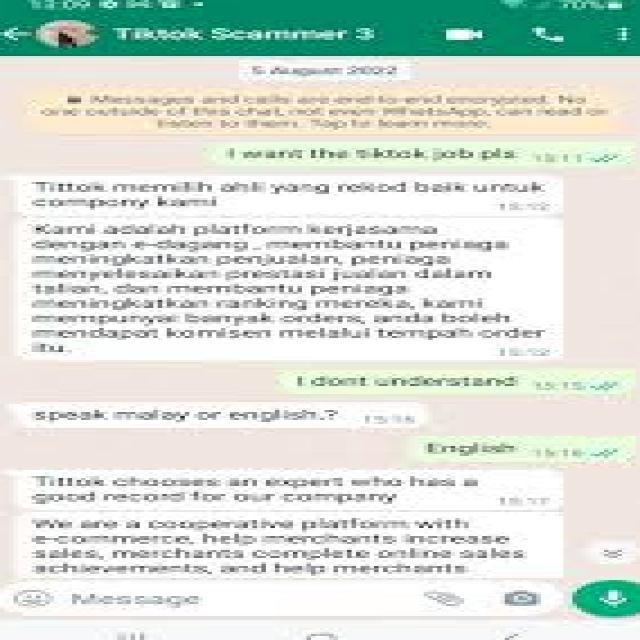scam: (31, 221, 556, 353), (15, 509, 561, 582), (19, 174, 552, 213), (18, 465, 503, 505), (1, 404, 367, 429)
